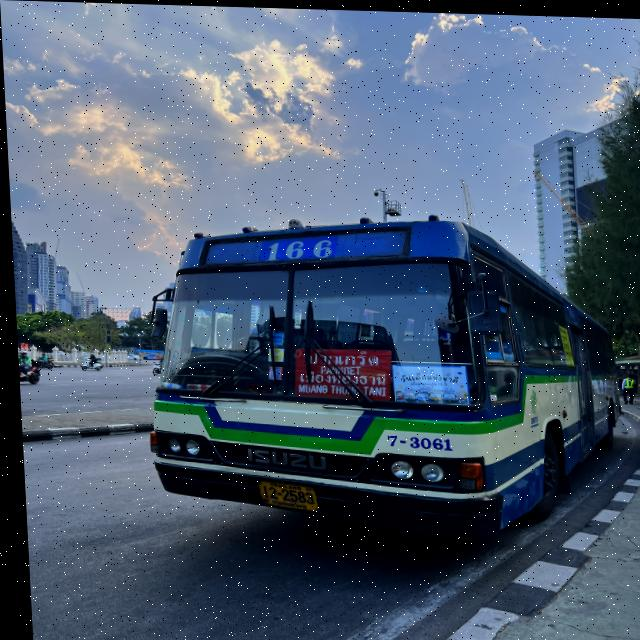BMTA-bus: (135, 209, 622, 542)
Bus-Line-Number: (256, 234, 336, 266)
Destination-Sign-Extra-Bus: (289, 341, 389, 402)
